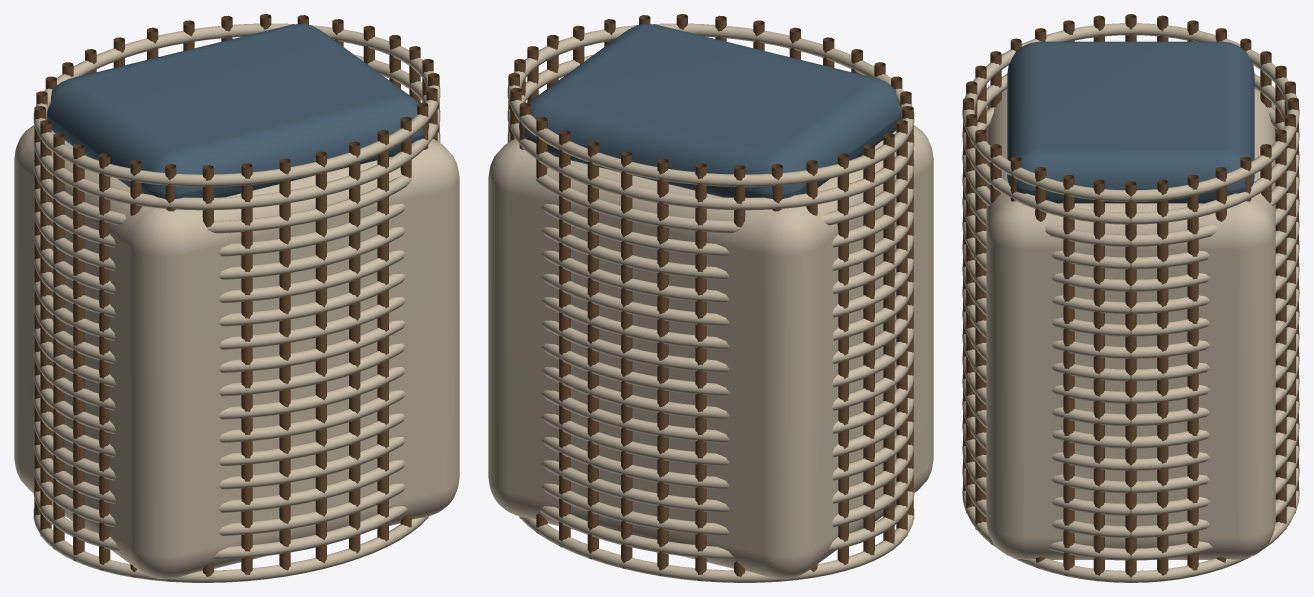
The model's file is hamper.glb.
3 renders of one model, left to right at view 1: azimuth 30°, elevation 25°; view 2: azimuth 150°, elevation 25°; view 3: azimuth 270°, elevation 25°, orthographic. The views are drawn at different scales.
Visible parts, largest first — view 1: Canvas liner, Soft linen, Woven horizontal.017, Woven horizontal.016, Woven horizontal, Woven horizontal.015, Woven upright.010, Woven upright.009, Woven upright.008, Woven upright.007, Woven horizontal.001, Woven upright.015 (+20 smaller); view 2: Canvas liner, Soft linen, Woven horizontal.017, Woven horizontal.016, Woven horizontal, Woven horizontal.015, Woven upright.022, Woven upright.023, Woven upright.024, Woven upright.025, Woven horizontal.001, Woven upright.017 (+20 smaller); view 3: Canvas liner, Soft linen, Woven horizontal.017, Woven horizontal.016, Woven upright, Woven upright.001, Woven upright.031, Woven upright.002, Woven upright.030, Woven horizontal, Woven horizontal.015, Woven horizontal.001 (+21 smaller).
Part boxes in pixels (<box>): Canvas liner: <box>14,125,459,579</box>; Soft linen: <box>47,23,428,198</box>; Woven horizontal.017: <box>33,23,440,186</box>; Woven horizontal.016: <box>33,54,440,210</box>; Woven horizontal: <box>33,508,428,582</box>; Woven horizontal.015: <box>33,132,440,233</box>; Woven upright.010: <box>241,163,252,580</box>; Woven upright.009: <box>279,158,290,575</box>; Woven upright.008: <box>315,151,326,568</box>; Woven upright.007: <box>349,141,360,558</box>; Woven horizontal.001: <box>33,485,407,559</box>; Woven upright.015: <box>73,144,84,561</box>; Canvas liner: <box>488,125,933,579</box>; Soft linen: <box>519,23,900,198</box>; Woven horizontal.017: <box>507,23,914,186</box>; Woven horizontal.016: <box>507,54,914,210</box>; Woven horizontal: <box>519,508,914,582</box>; Woven horizontal.015: <box>507,132,914,233</box>; Woven upright.022: <box>695,163,706,580</box>; Woven upright.023: <box>657,158,668,575</box>; Woven upright.024: <box>621,151,632,568</box>; Woven upright.025: <box>587,141,598,558</box>; Woven horizontal.001: <box>540,485,914,559</box>; Woven upright.017: <box>863,144,874,561</box>; Canvas liner: <box>986,89,1275,559</box>; Soft linen: <box>1007,41,1254,203</box>; Woven horizontal.017: <box>962,23,1299,201</box>; Woven horizontal.016: <box>962,74,1299,224</box>; Woven upright: <box>1125,181,1136,582</box>; Woven upright.001: <box>1093,179,1104,580</box>; Woven upright.031: <box>1157,179,1168,580</box>; Woven upright.002: <box>1063,174,1074,576</box>; Woven upright.030: <box>1187,174,1198,576</box>; Woven horizontal: <box>962,487,1299,582</box>; Woven horizontal.015: <box>962,107,1299,246</box>; Woven horizontal.001: <box>962,465,1299,560</box>.
Bounding box in the file's own units: 0.578 × 0.629 × 0.478.
